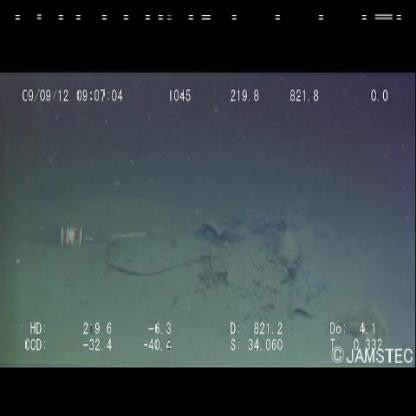Rác: (27, 212, 101, 256)
